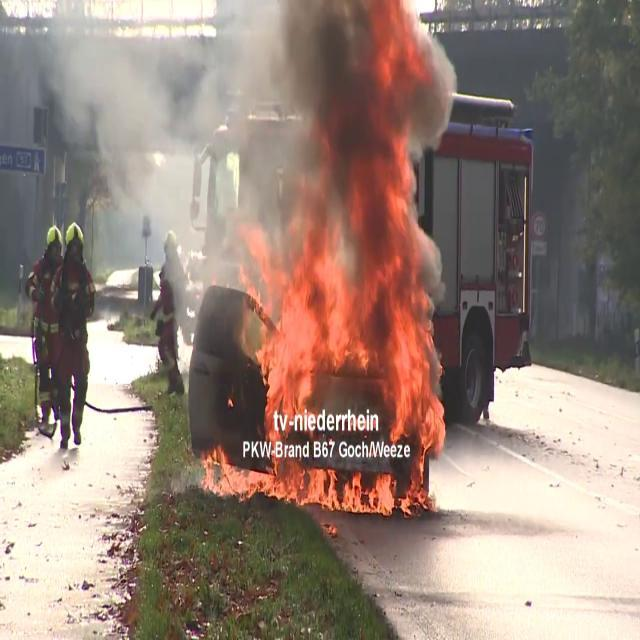Fire: (256, 215, 448, 516), (198, 438, 259, 502)
Smoke: (2, 1, 454, 274)
